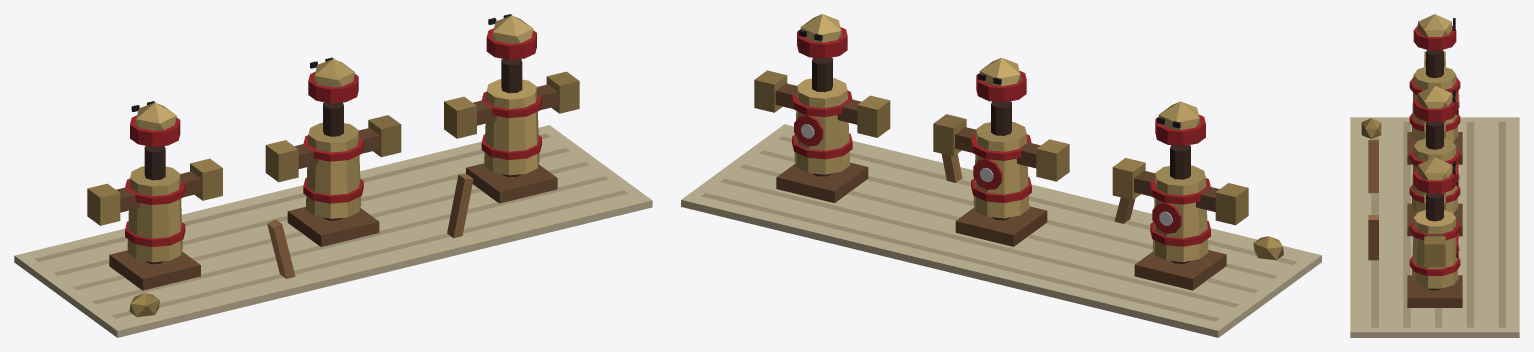
File: Decor_NinjaDojo_Dummies.fbx
3 views of the same model, side by side, from view 1: azimuth 30°, elevation 25°; view 2: azimuth 150°, elevation 25°; view 3: azimuth 270°, elevation 25° (orthographic). The views are drawn at different scales.
Visible parts, largest first — view 1: Dummies_Body; view 2: Dummies_Body; view 3: Dummies_Body.
Part boxes in pixels (box(x1,y1,x2,y2)): Dummies_Body: box(14, 14, 652, 337); Dummies_Body: box(681, 14, 1321, 337); Dummies_Body: box(1350, 14, 1519, 337).
Size of the model in its own units: 24 by 7.55 by 8.
